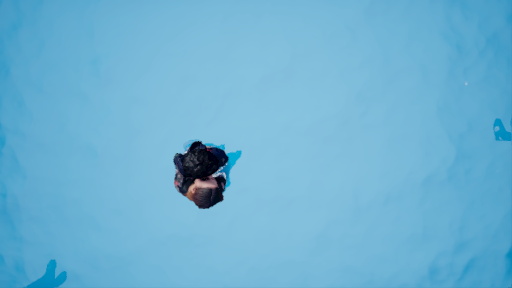person: (173, 136, 246, 205)
